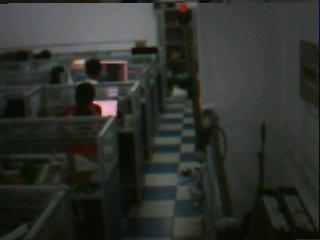oball: (177, 3, 187, 11)
